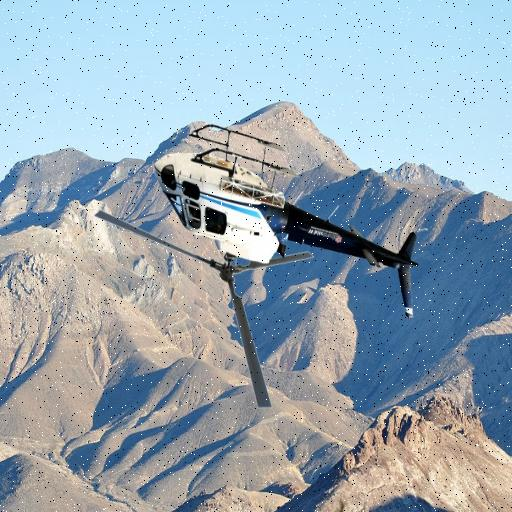helicopter: (98, 126, 426, 408)
